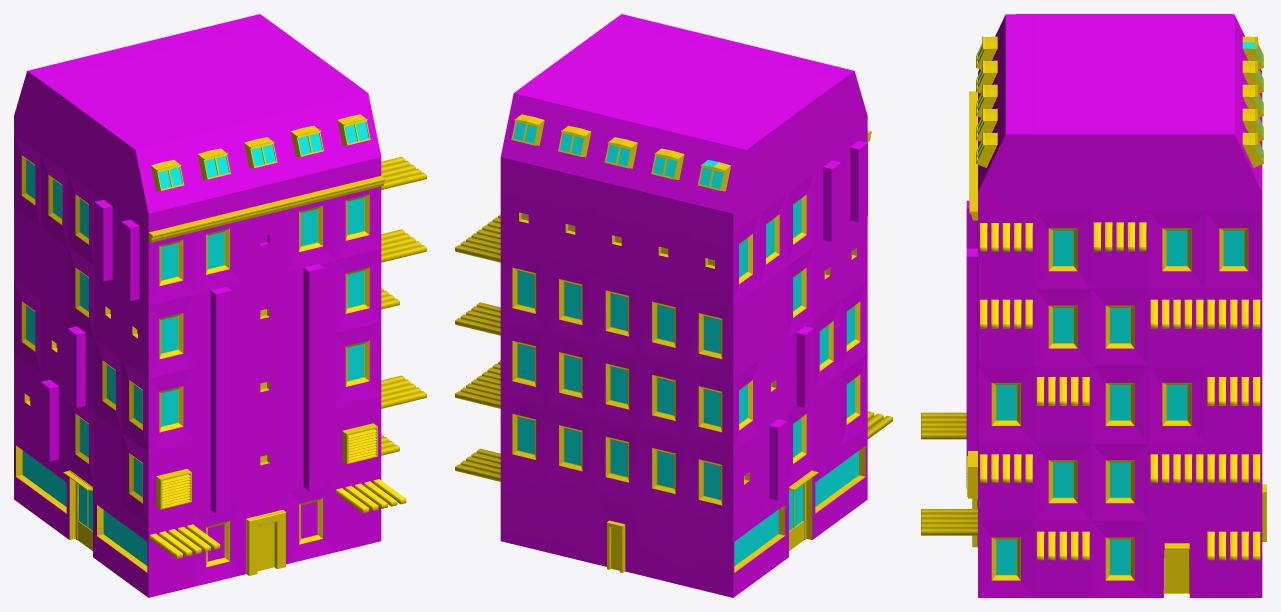
3 views of the same model, side by side, from view 1: azimuth 30°, elevation 25°; view 2: azimuth 150°, elevation 25°; view 3: azimuth 270°, elevation 25° (orthographic). The views are drawn at different scales.
Visible parts, largest first — view 1: B_05, Bar_Deco_B_05, Bar_Deco_B_05_02; view 2: B_05, Bar_Deco_B_05; view 3: B_05, Bar_Deco_B_05, Bar_Deco_B_05_02.
Part boxes in pixels (x1,y1,x2,y2): B_05: (14, 14, 385, 597); Bar_Deco_B_05: (381, 156, 426, 455); Bar_Deco_B_05_02: (150, 479, 406, 558); B_05: (500, 14, 871, 597); Bar_Deco_B_05: (455, 214, 500, 481); B_05: (966, 14, 1266, 597); Bar_Deco_B_05: (979, 222, 1260, 560); Bar_Deco_B_05_02: (921, 412, 977, 535).
Size of the model in its own units: 1240 by 1800 by 1216.
